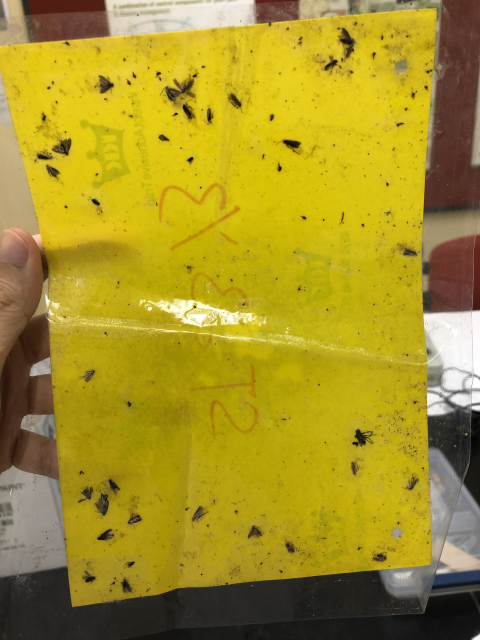DBM: (190, 502, 208, 530), (50, 138, 73, 158), (226, 92, 246, 113), (159, 84, 182, 102), (179, 98, 196, 122), (244, 523, 265, 542), (73, 486, 94, 505), (33, 148, 57, 164), (126, 512, 145, 531), (402, 473, 420, 493), (42, 162, 61, 180), (97, 492, 110, 517), (274, 138, 301, 150), (79, 367, 96, 384), (105, 477, 121, 495), (349, 458, 363, 478), (203, 105, 215, 126), (401, 245, 420, 258)
